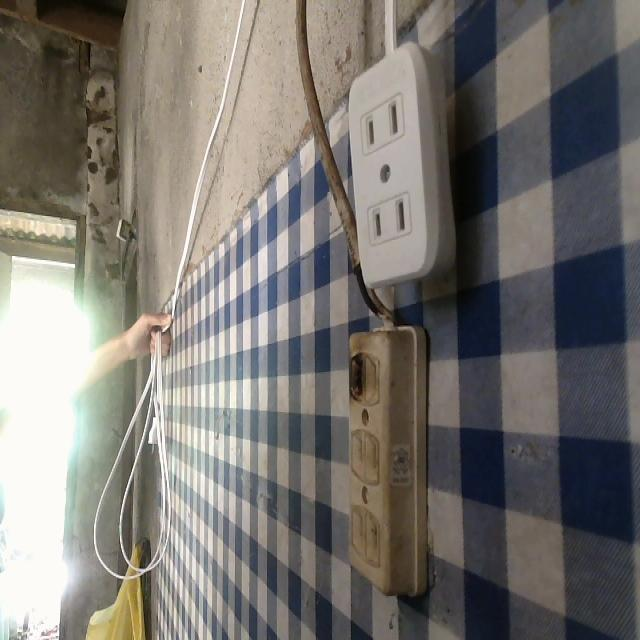-: (342, 347, 365, 404)
